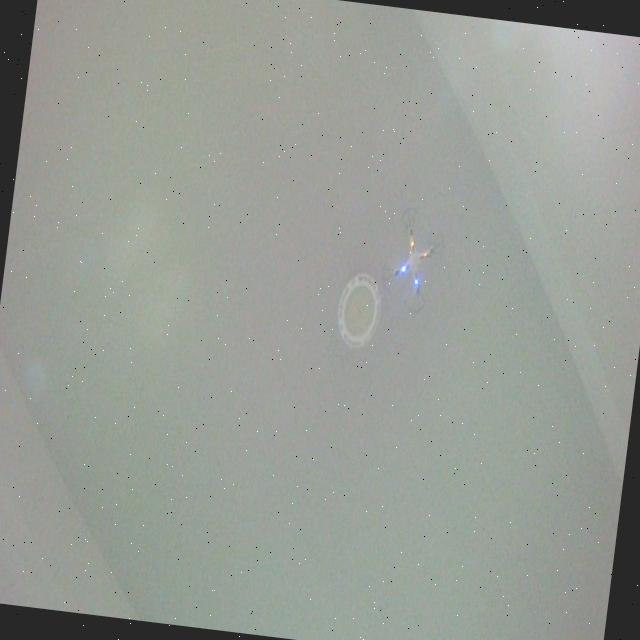drone: (376, 200, 450, 322)
